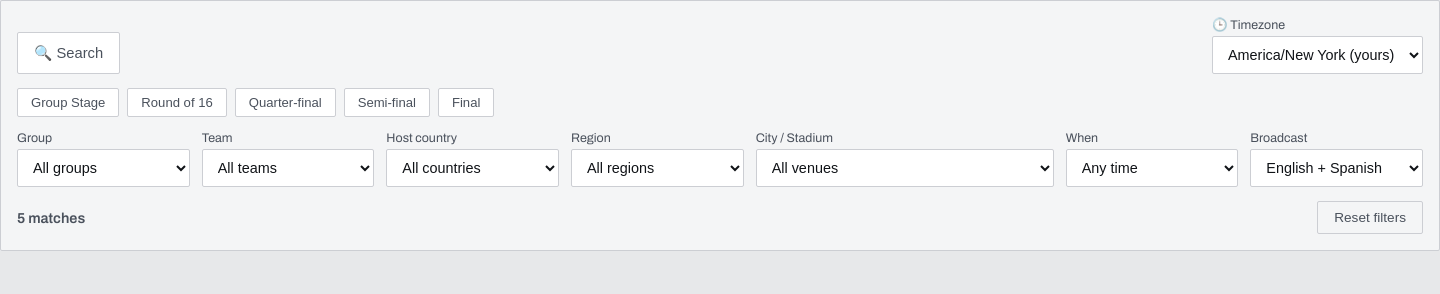
Test: Filters › applies a search-example chip
Click the button "🔍 Search": (69,53) [17,32,120,74]
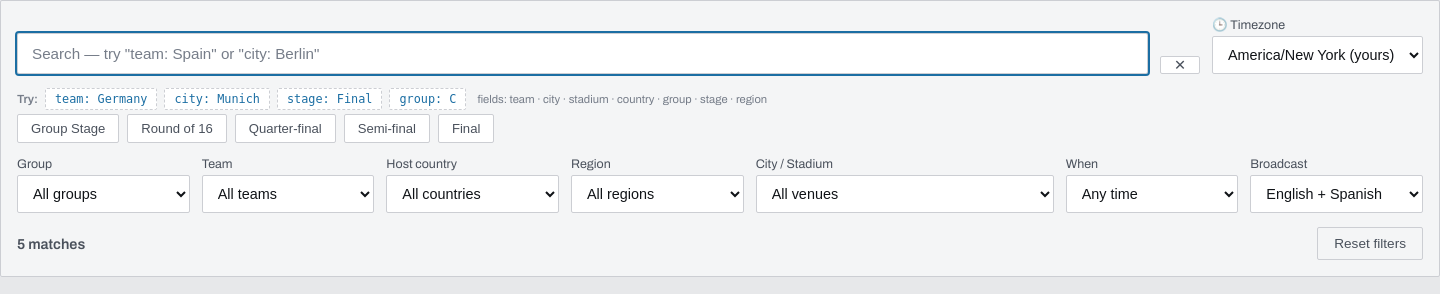
Click the button "city: Munich": (217,99) [164,88,270,110]
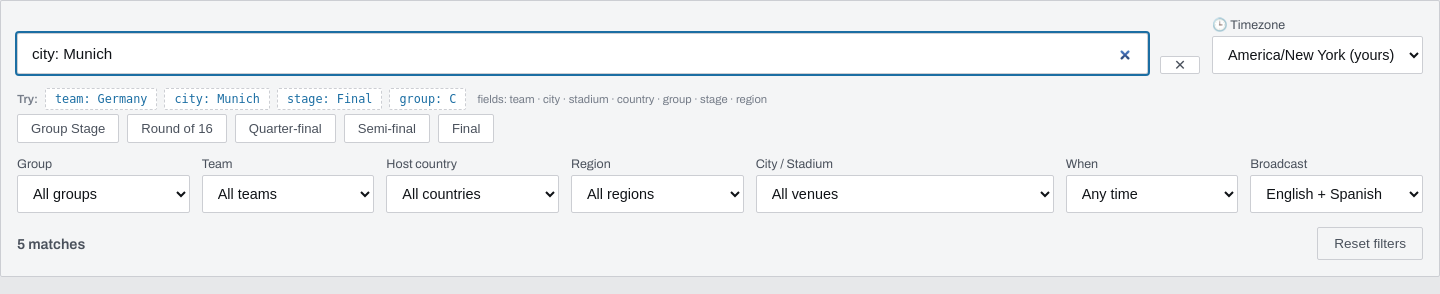
Expected: the search field with placeholder "Search — try \"team: Spain\" or \"city: Berlin\"" holds "city: Munich", [17,33,1148,74]
